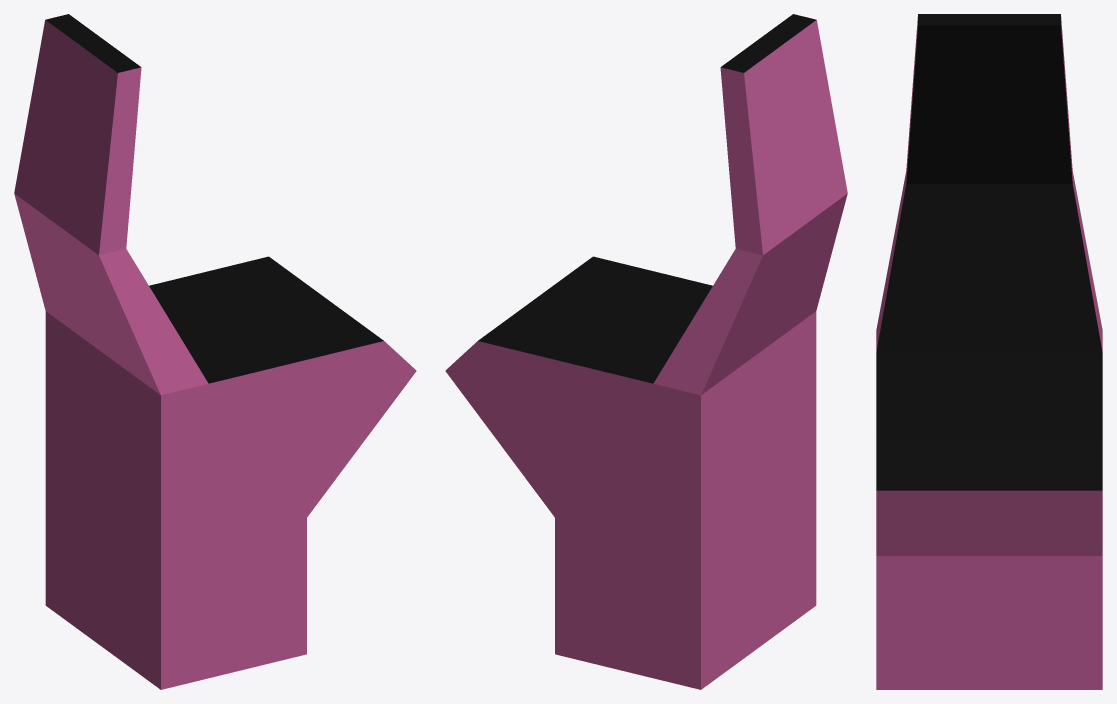
The model's file is shipseat.obj.
3 renders of one model, left to right at view 1: azimuth 30°, elevation 25°; view 2: azimuth 150°, elevation 25°; view 3: azimuth 270°, elevation 25°, orthographic.
Visible parts, largest first — view 1: Seat; view 2: Seat; view 3: Seat.
Part boxes in pixels (left/top/right/bottom): Seat: left=14, top=14, right=416, bottom=689; Seat: left=445, top=14, right=847, bottom=689; Seat: left=876, top=14, right=1102, bottom=689.
Bounding box in the file's own units: 1.54 × 2.95 × 1.02.
